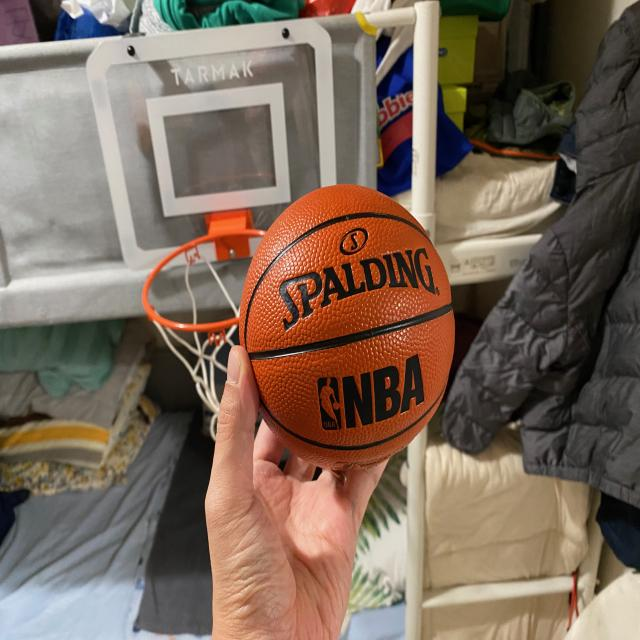Ball: (225, 166, 470, 488)
